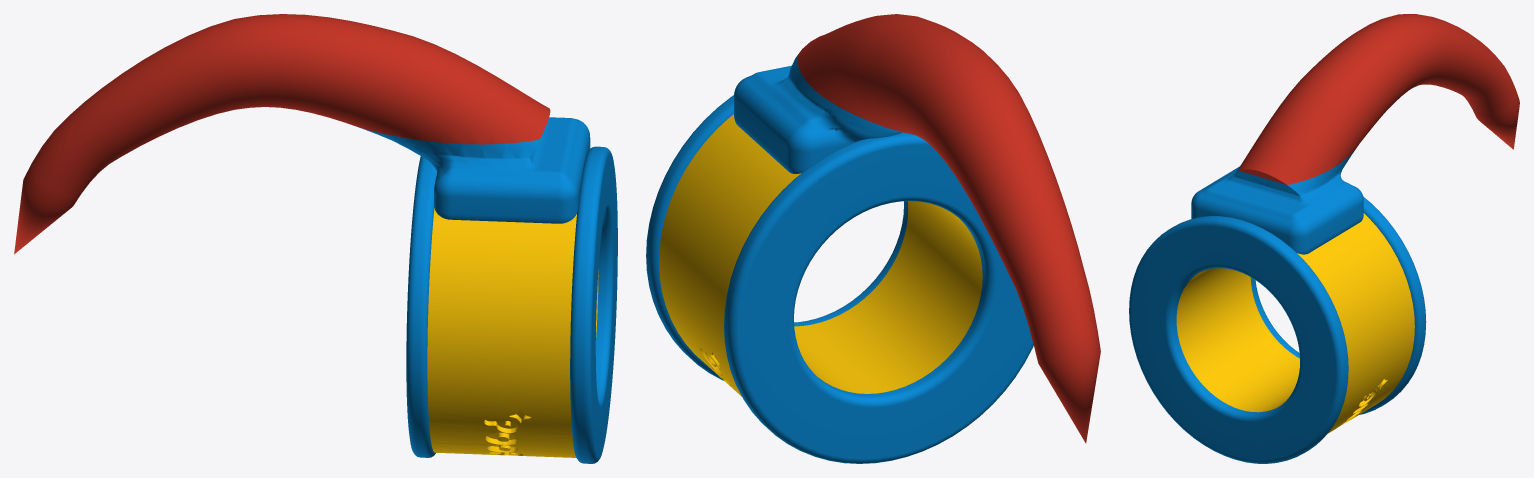
File: talon.glb
3 views of the same model, side by side, from view 1: azimuth 30°, elevation 25°; view 2: azimuth 150°, elevation 25°; view 3: azimuth 270°, elevation 25° (orthographic). The views are drawn at different scales.
Visible parts, largest first — view 1: talon-part-005, talon-part-001, talon-part-004, talon-part-002, talon-part-003; view 2: talon-part-003, talon-part-005, talon-part-001, talon-part-004, talon-part-002; view 3: talon-part-002, talon-part-001, talon-part-005, talon-part-004, talon-part-003.
Part boxes in pixels (x1=…): talon-part-005: x1=14, y1=14, x2=550, y2=254; talon-part-001: x1=427, y1=208, x2=598, y2=457; talon-part-004: x1=358, y1=117, x2=590, y2=223; talon-part-002: x1=570, y1=146, x2=617, y2=463; talon-part-003: x1=406, y1=156, x2=436, y2=457; talon-part-003: x1=724, y1=132, x2=1033, y2=463; talon-part-005: x1=797, y1=14, x2=1100, y2=443; talon-part-001: x1=659, y1=114, x2=982, y2=396; talon-part-004: x1=734, y1=55, x2=902, y2=173; talon-part-002: x1=646, y1=95, x2=908, y2=380; talon-part-002: x1=1129, y1=216, x2=1348, y2=463; talon-part-001: x1=1176, y1=213, x2=1414, y2=433; talon-part-005: x1=1239, y1=14, x2=1519, y2=184; talon-part-004: x1=1191, y1=149, x2=1363, y2=254; talon-part-003: x1=1250, y1=197, x2=1426, y2=414.
Bounding box in the file's own units: 3 × 2.42 × 2.48.
